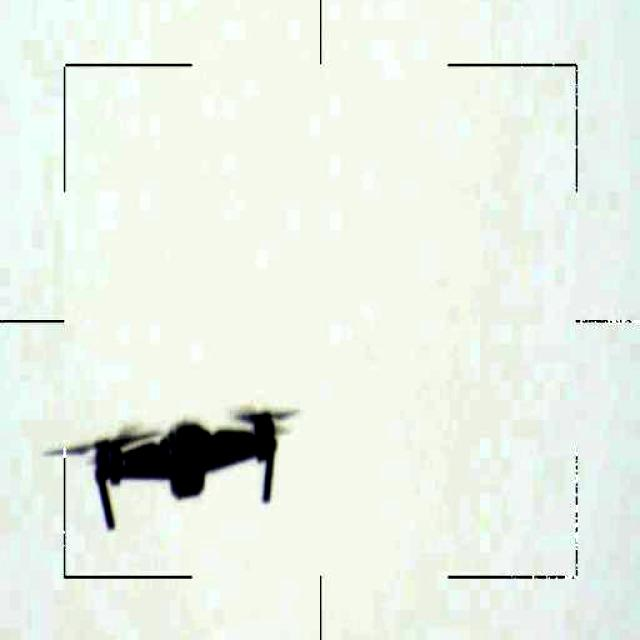bird: (38, 396, 301, 541)
